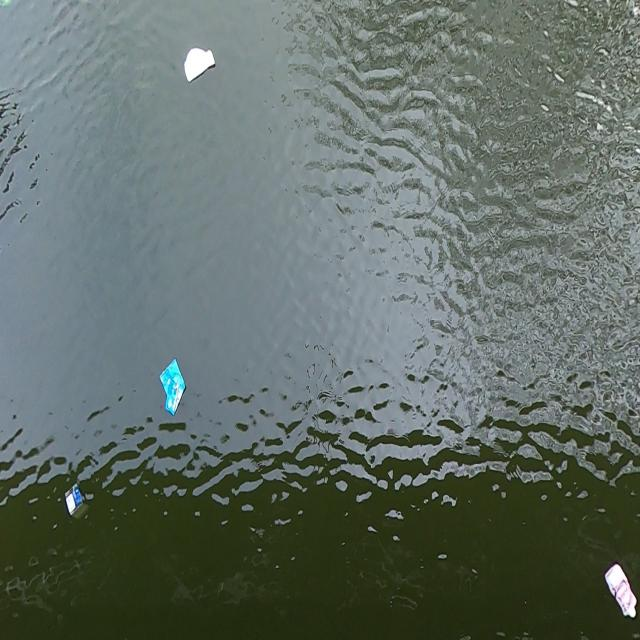Autre plastique: (158, 356, 189, 418), (60, 477, 94, 526)
Bouteille plastique: (604, 556, 640, 621)
